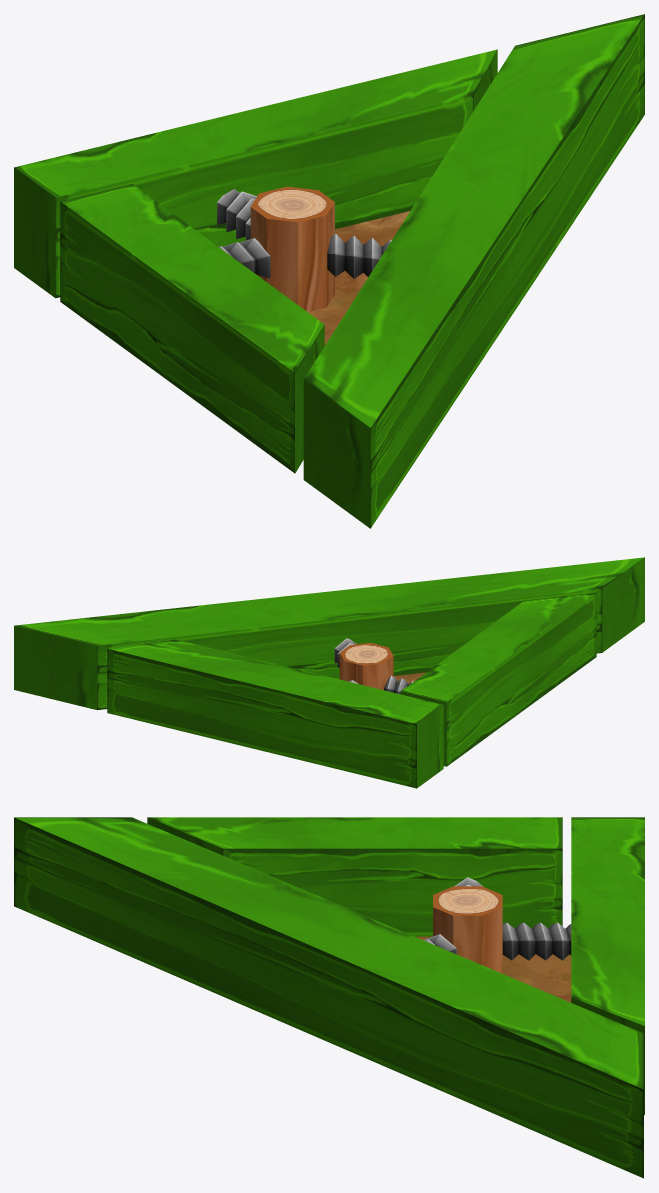
The model's file is triangle_green_03.fbx.
3 views of the same model, one above another, from view 1: azimuth 30°, elevation 25°; view 2: azimuth 150°, elevation 25°; view 3: azimuth 270°, elevation 25° (orthographic). The views are drawn at different scales.
Visible parts, largest first — view 1: wall_73, wall_74, wall_75, Middle_10, floor_4, spring_7, spring_8, spring_9; view 2: wall_73, wall_74, wall_75, Middle_10; view 3: wall_73, wall_75, wall_74, Middle_10, spring_8, floor_4.
Part boxes in pixels (x1,y1,x2,y2): wall_73: (303, 14, 644, 528); wall_74: (14, 49, 497, 298); wall_75: (60, 184, 324, 473); Middle_10: (250, 186, 334, 311); floor_4: (308, 211, 409, 345); spring_7: (327, 233, 391, 278); spring_8: (217, 189, 256, 240); spring_9: (219, 238, 270, 278); wall_73: (14, 557, 644, 710); wall_74: (107, 639, 443, 788); wall_75: (400, 592, 596, 766); Middle_10: (339, 643, 393, 690); wall_73: (14, 817, 643, 1178); wall_75: (147, 817, 562, 936); wall_74: (571, 817, 644, 1114); Middle_10: (433, 886, 502, 973); spring_8: (502, 922, 571, 960); floor_4: (415, 936, 571, 1002).
Size of the model in its own units: 263 by 40 by 257.
